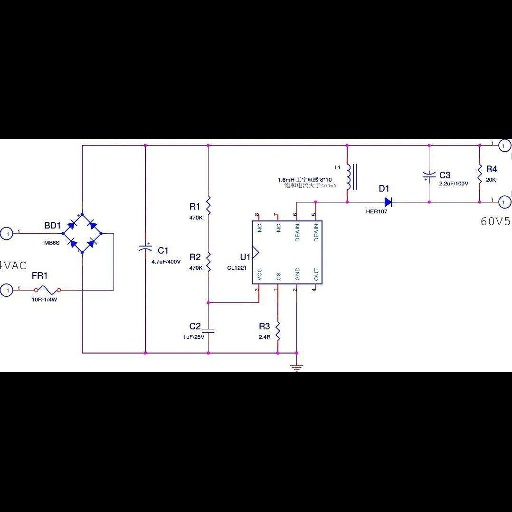capacitor: (202, 325, 217, 335)
firstdiode: (382, 195, 397, 209)
firstpolarcapacitor: (419, 167, 437, 182), (137, 239, 155, 253)
gnd: (286, 362, 307, 372)
inductor: (343, 159, 353, 195)
rectifierbridge: (62, 214, 103, 255)
secondresistance: (203, 191, 217, 218), (272, 317, 285, 343), (473, 162, 485, 189), (204, 247, 214, 274)
